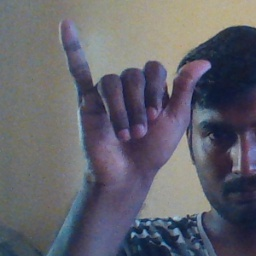J: (58, 16, 212, 180)
